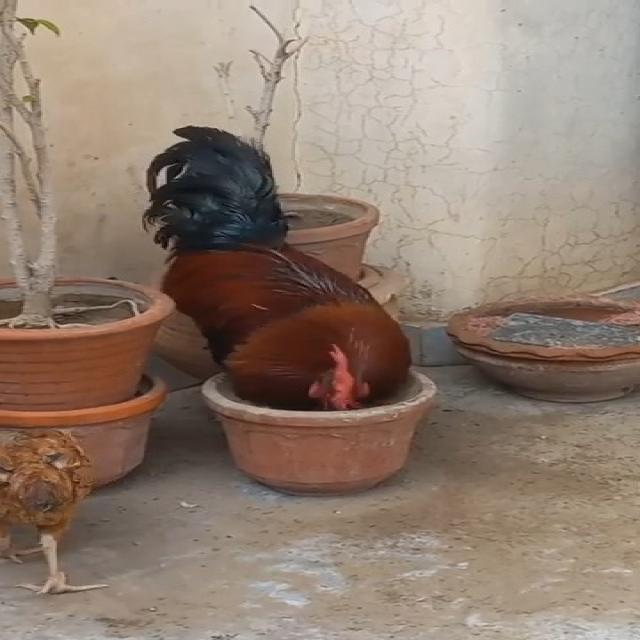stand bath: (106, 122, 426, 420)
